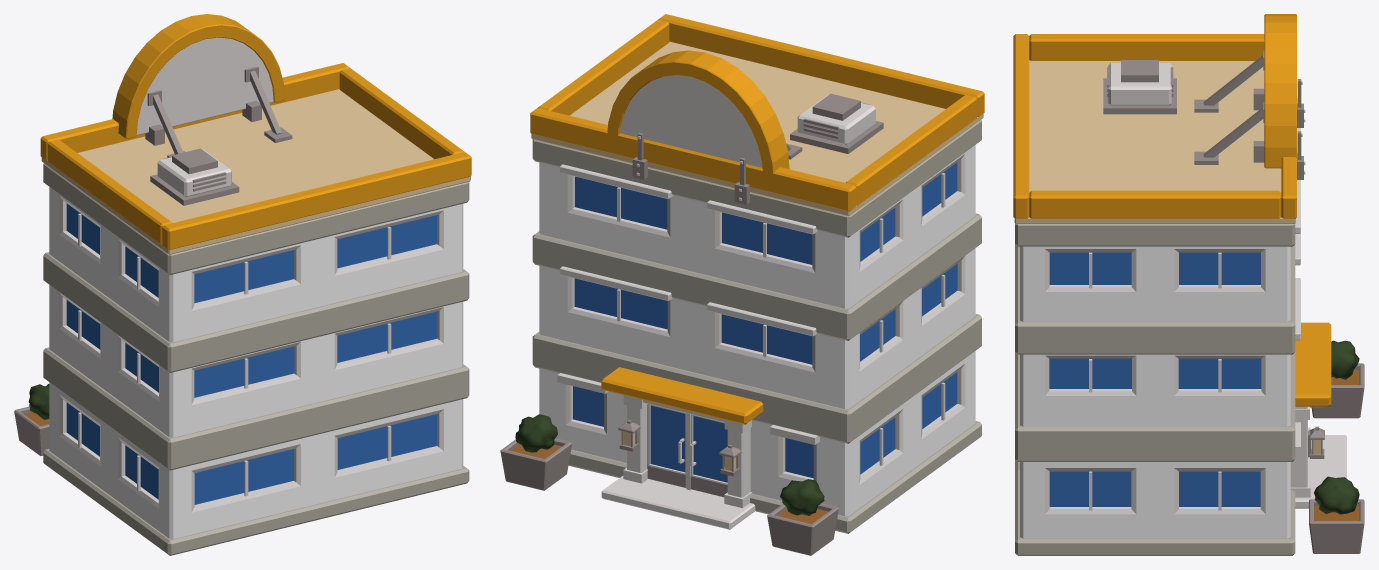
The model's file is BGOffice002_JC.fbx.
3 renders of one model, left to right at view 1: azimuth 30°, elevation 25°; view 2: azimuth 150°, elevation 25°; view 3: azimuth 270°, elevation 25°, orthographic. The views are drawn at different scales.
Visible parts, largest first — view 1: BGOffice002_JC; view 2: BGOffice002_JC; view 3: BGOffice002_JC.
Part boxes in pixels (x1,y1,x2,y2): BGOffice002_JC: (14, 14, 471, 555); BGOffice002_JC: (500, 14, 984, 555); BGOffice002_JC: (1013, 14, 1364, 555).
Bounding box in the file's own units: 712 × 920 × 646.
Materials: 1 (1 with a texture image).
